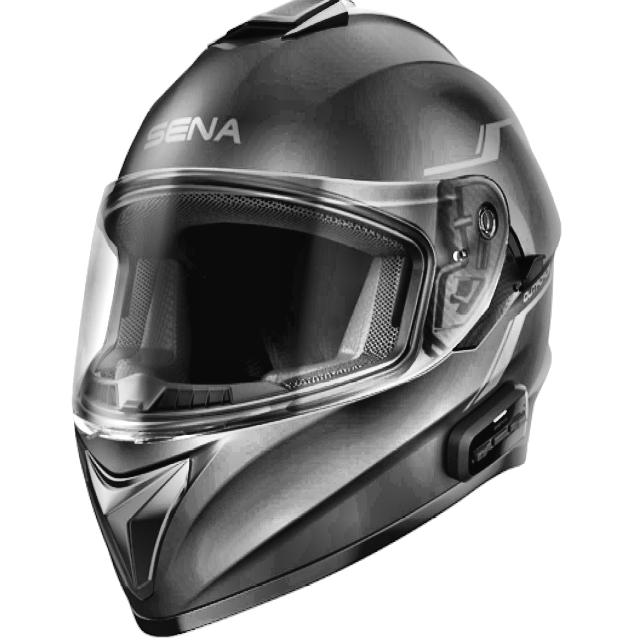Helmet: (72, 0, 559, 640)
